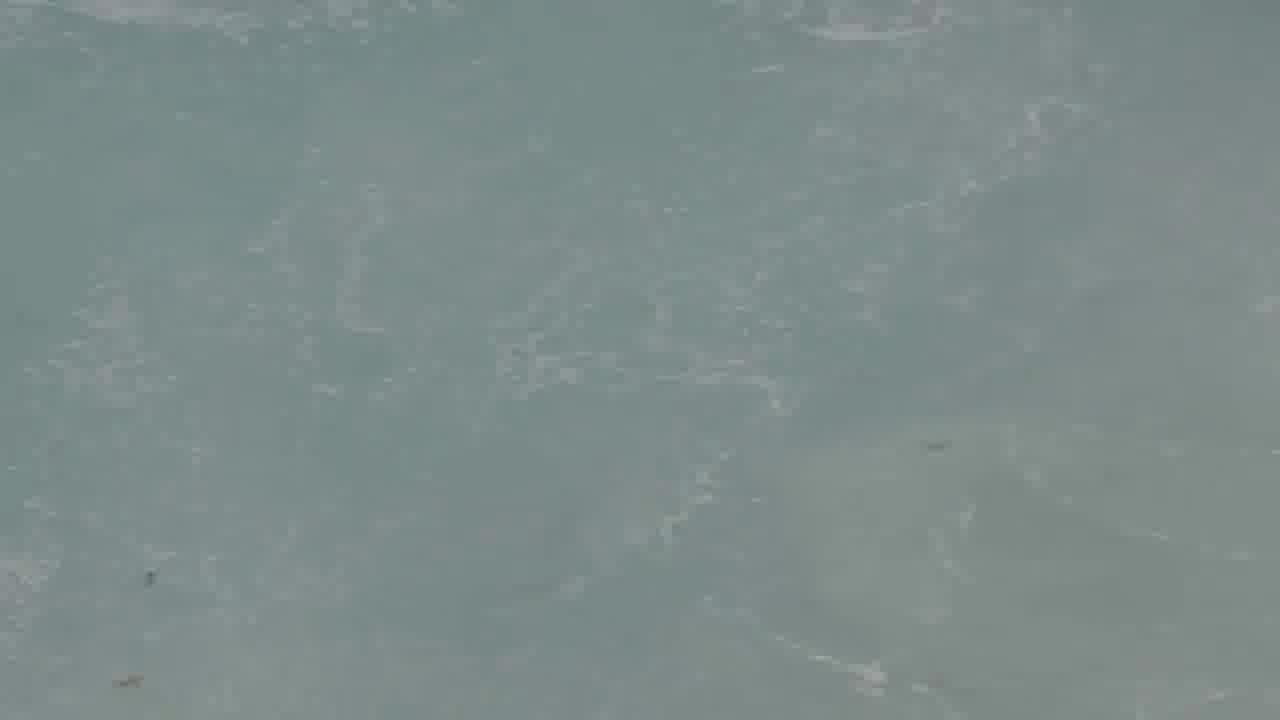swimmer: (127, 563, 174, 596)
